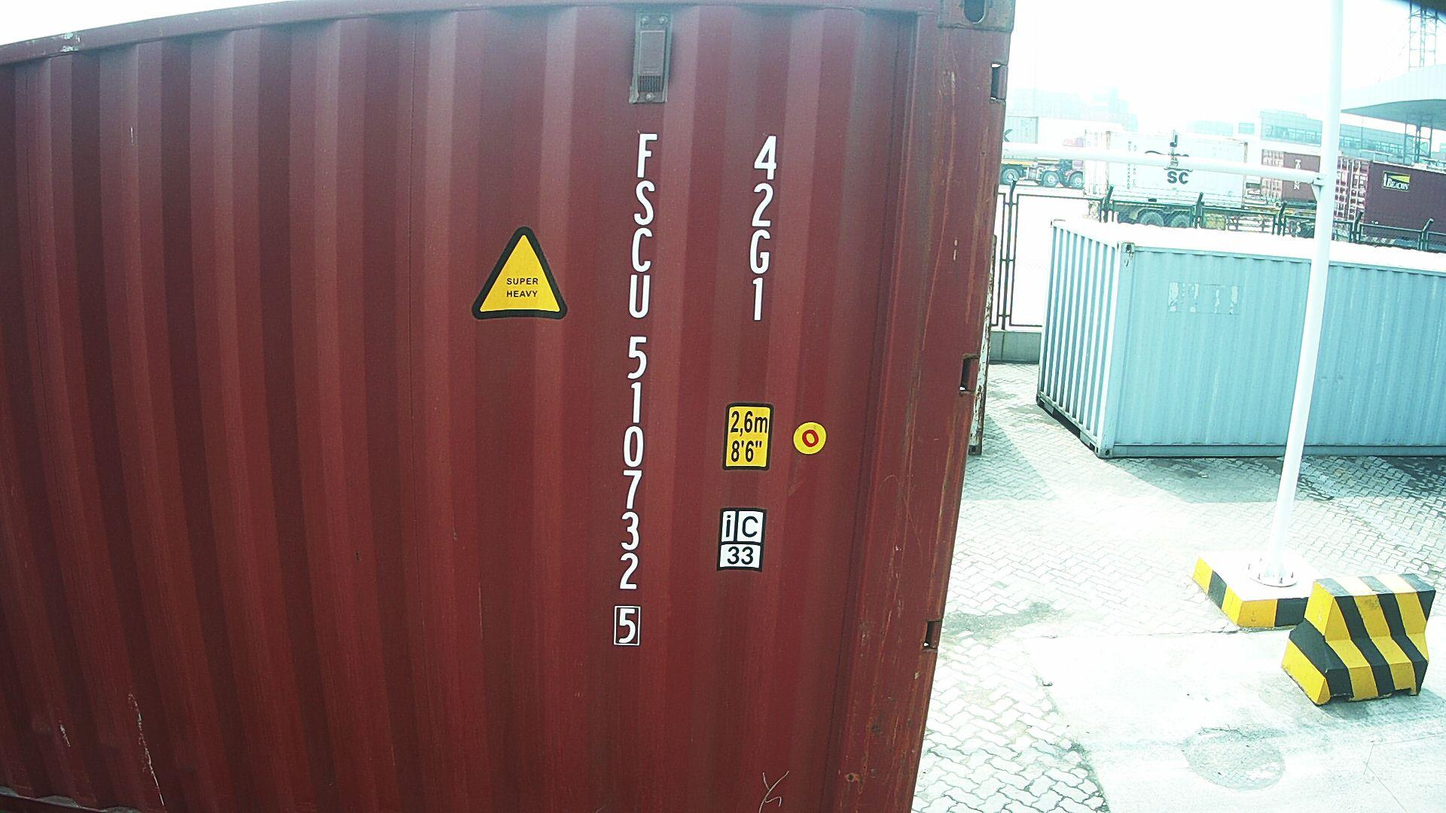container-numbers: (610, 126, 661, 656), (739, 129, 784, 328)
